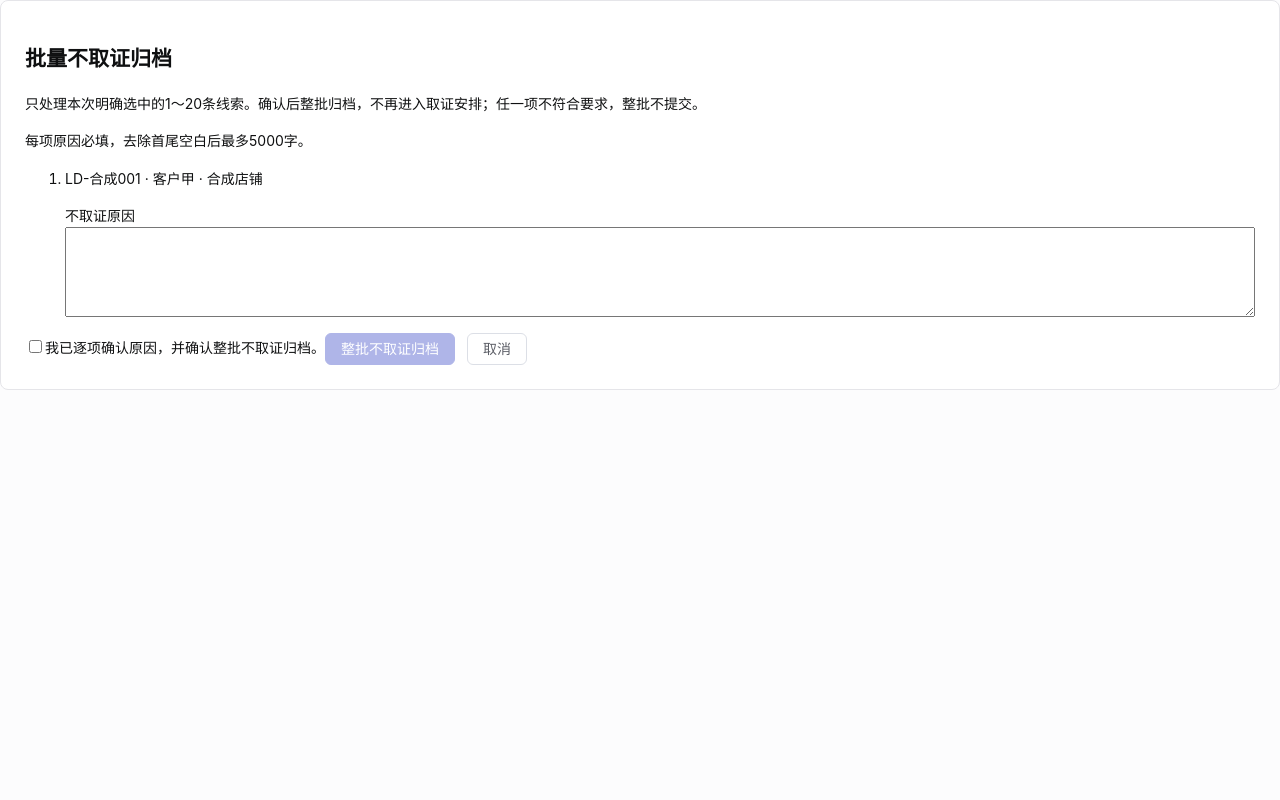
LeadNoEvidenceBatchPanel › blocks submission if persistence fails
Type " 原因原文 " into the text box with test id "no-evidence-reason-0" at (660, 272), box [65,227,1255,317]
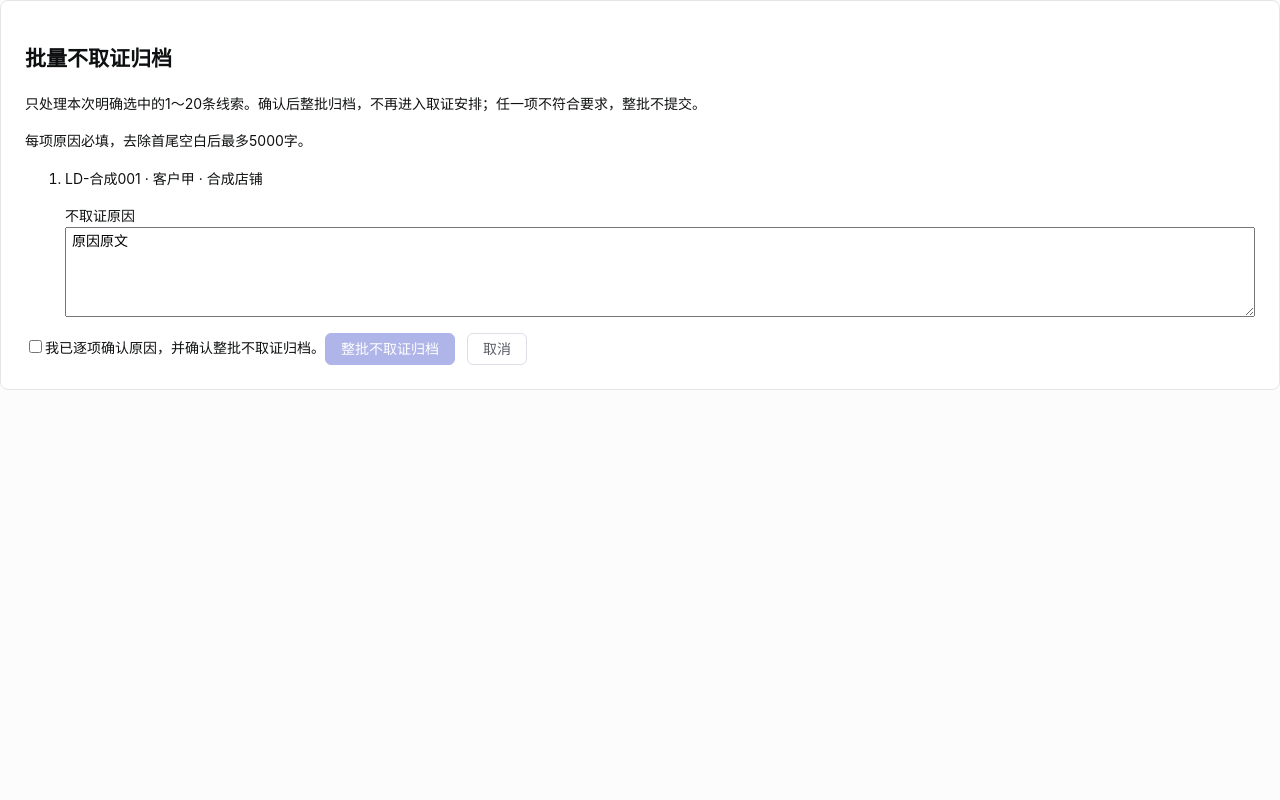
Click the checkbox with test id "no-evidence-confirm" at (36, 346), box [29,340,42,353]
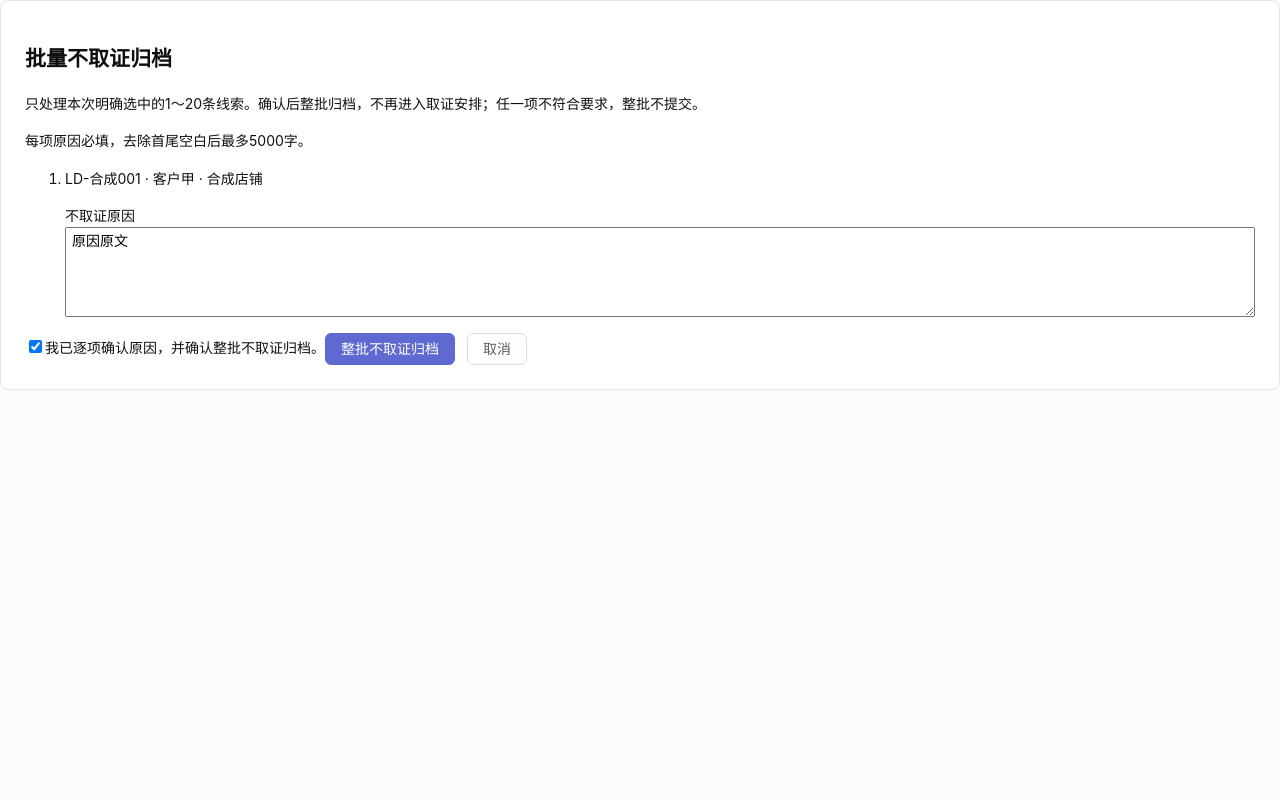
Click the button with test id "no-evidence-submit" at (390, 349), box [325,333,455,365]
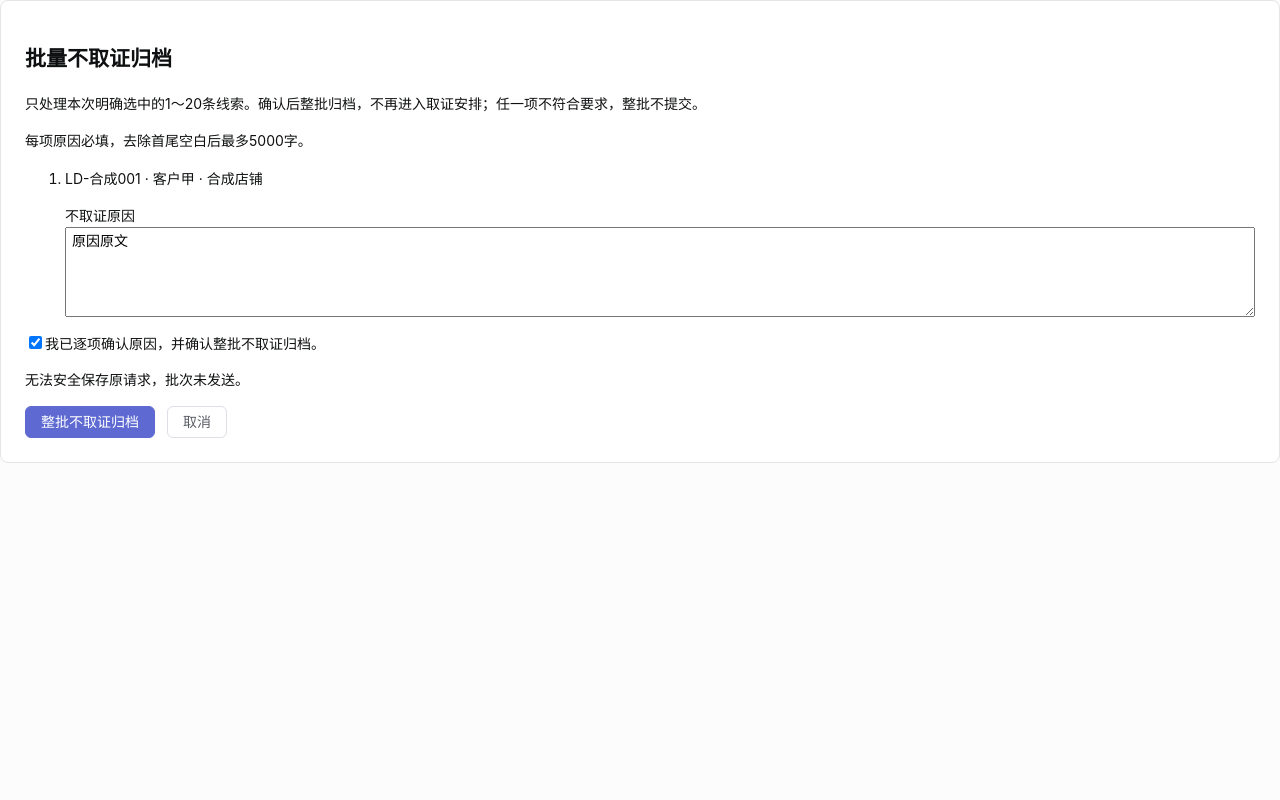
Check: the text "批次未发送" is shown, box [25,371,249,388]
